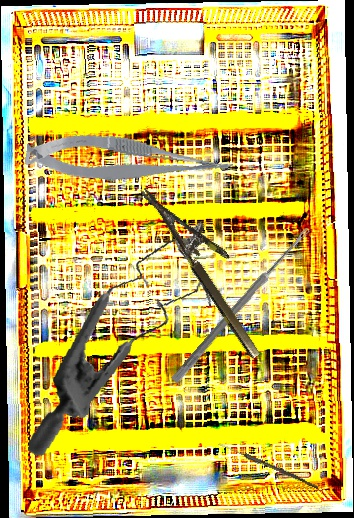Micro Scissor: (23, 122, 235, 202)
Needle Holder: (140, 169, 283, 361)
Speculum: (27, 222, 220, 477)
Surgical Spoon: (170, 225, 312, 385), (217, 441, 320, 490)
